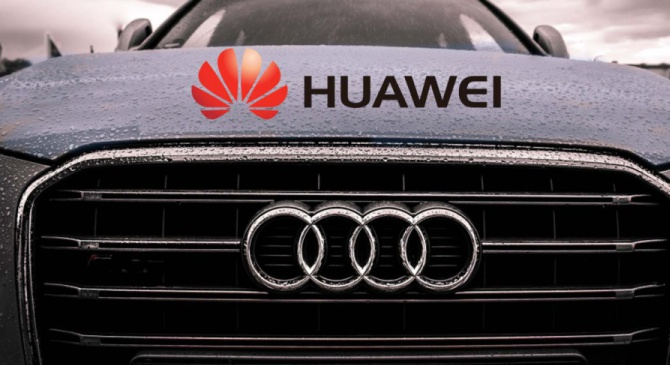audi: (241, 189, 489, 309)
